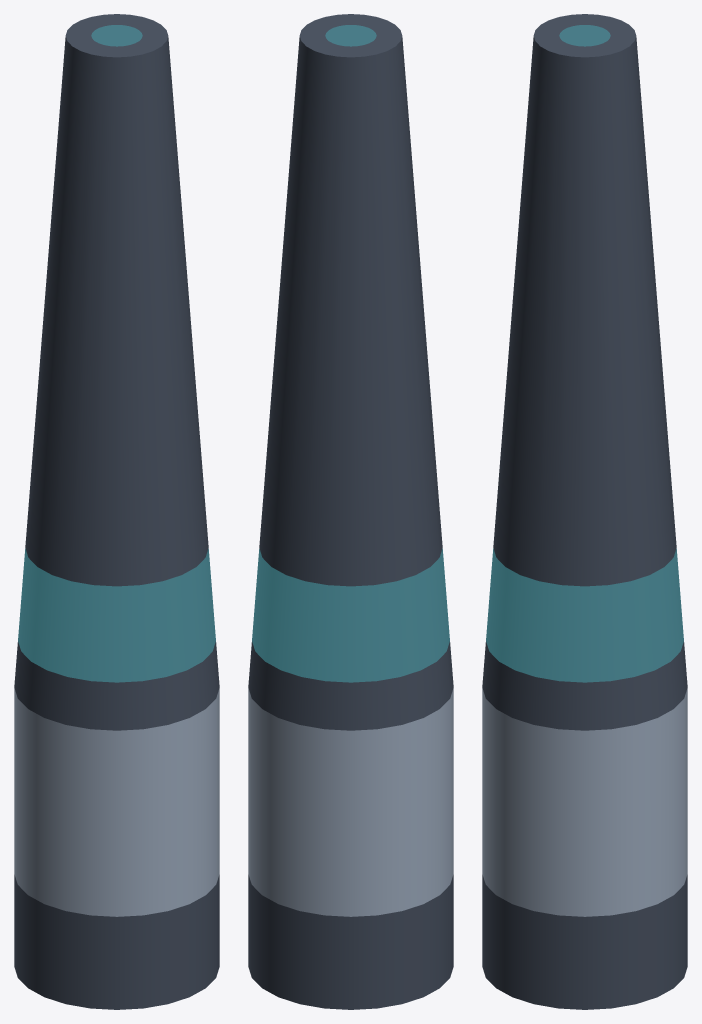
Rendered from chimney_detailed.glb.
The picture shows the model from 3 angles, left to right: view 1: azimuth 30°, elevation 25°; view 2: azimuth 150°, elevation 25°; view 3: azimuth 270°, elevation 25°; orthographic projection.
Parts seen in each view (by area): view 1: chimney_detailed; view 2: chimney_detailed; view 3: chimney_detailed.
Boxes of the visible parts, bbox=[...] form: chimney_detailed: bbox=[14, 14, 219, 1009]; chimney_detailed: bbox=[248, 14, 453, 1009]; chimney_detailed: bbox=[482, 14, 687, 1009].
Size of the model in its own units: 0.4 by 2 by 0.4.
